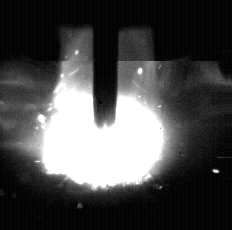arame: (94, 0, 119, 128)
poca: (42, 0, 166, 230)
